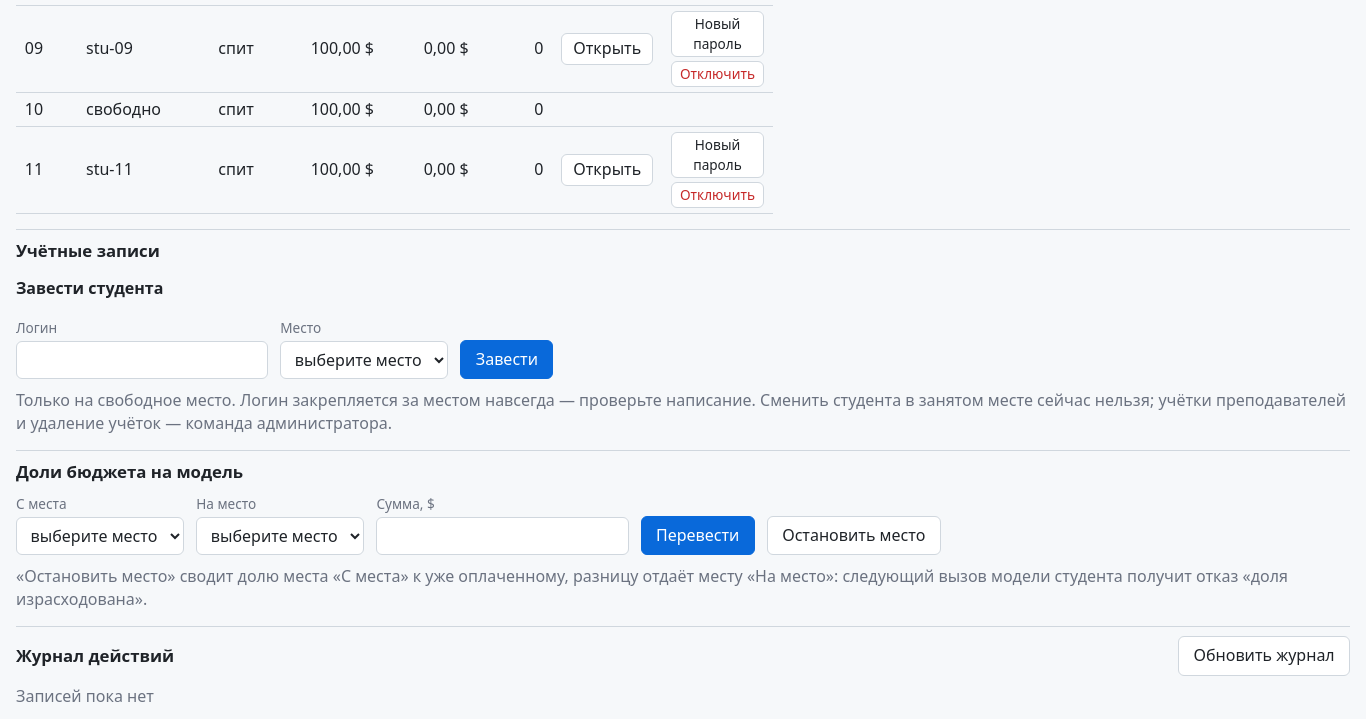
Test: share_refusal_400_and_503_text_as_is
The width and height of the screenshot is (1366, 719).
(page scrolled)
Select "03 — stu-03" in the dropdown labelled "С места": (100, 536) [16,517,184,555]
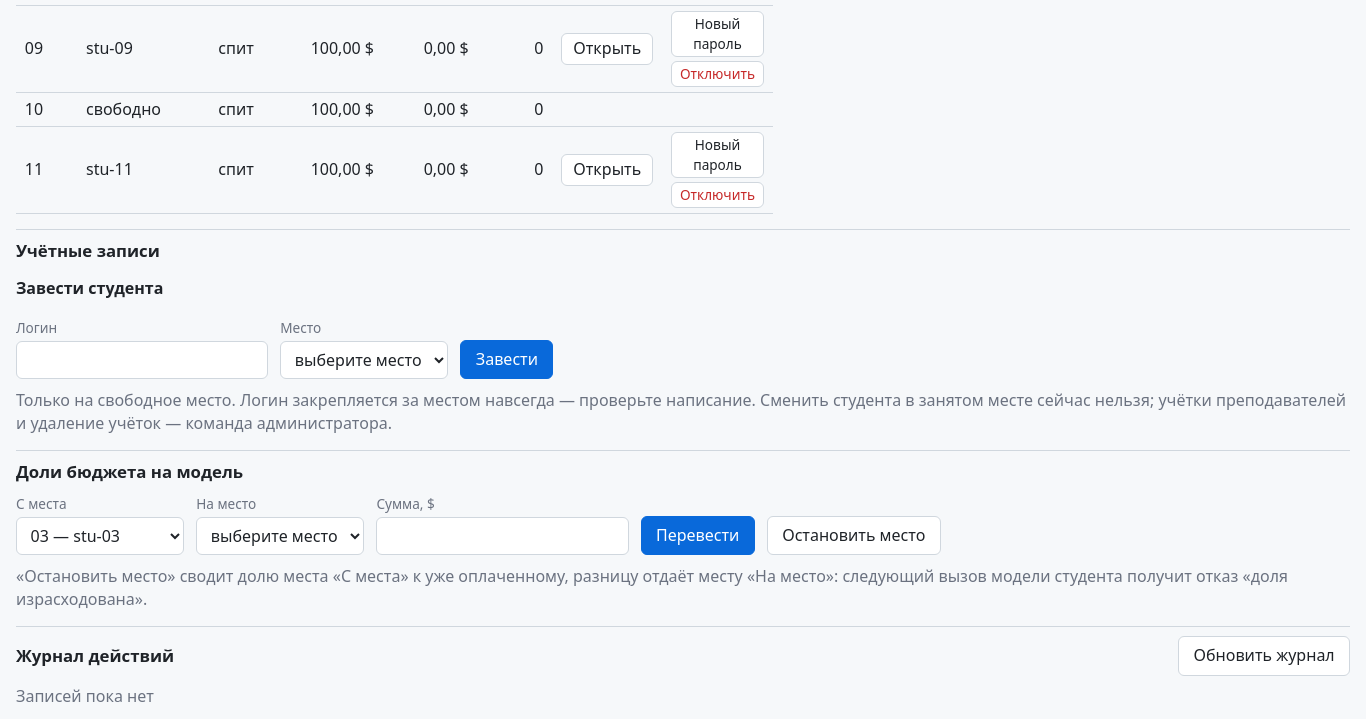
Select "05 — stu-05" in the dropdown labelled "На место": (280, 536) [196,517,364,555]
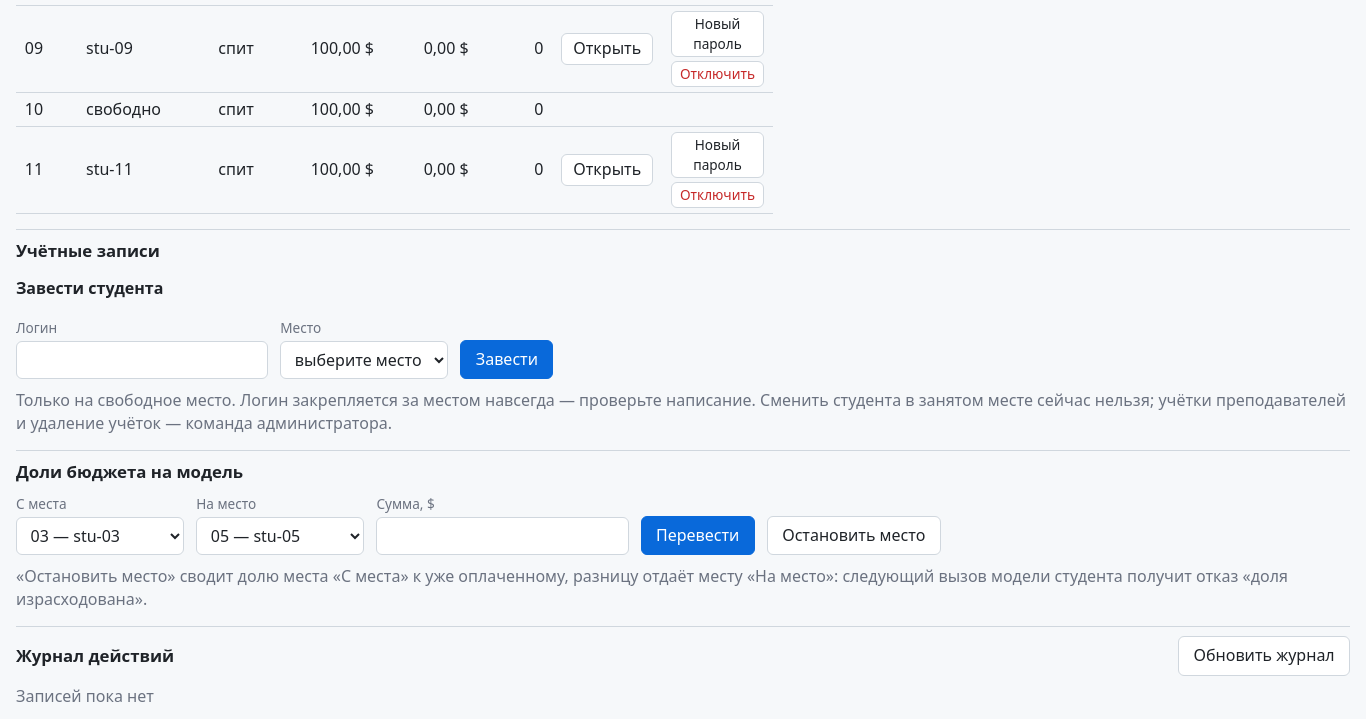
In the field labelled "Сумма, $": (502, 536) [376,517,629,555], type "1"
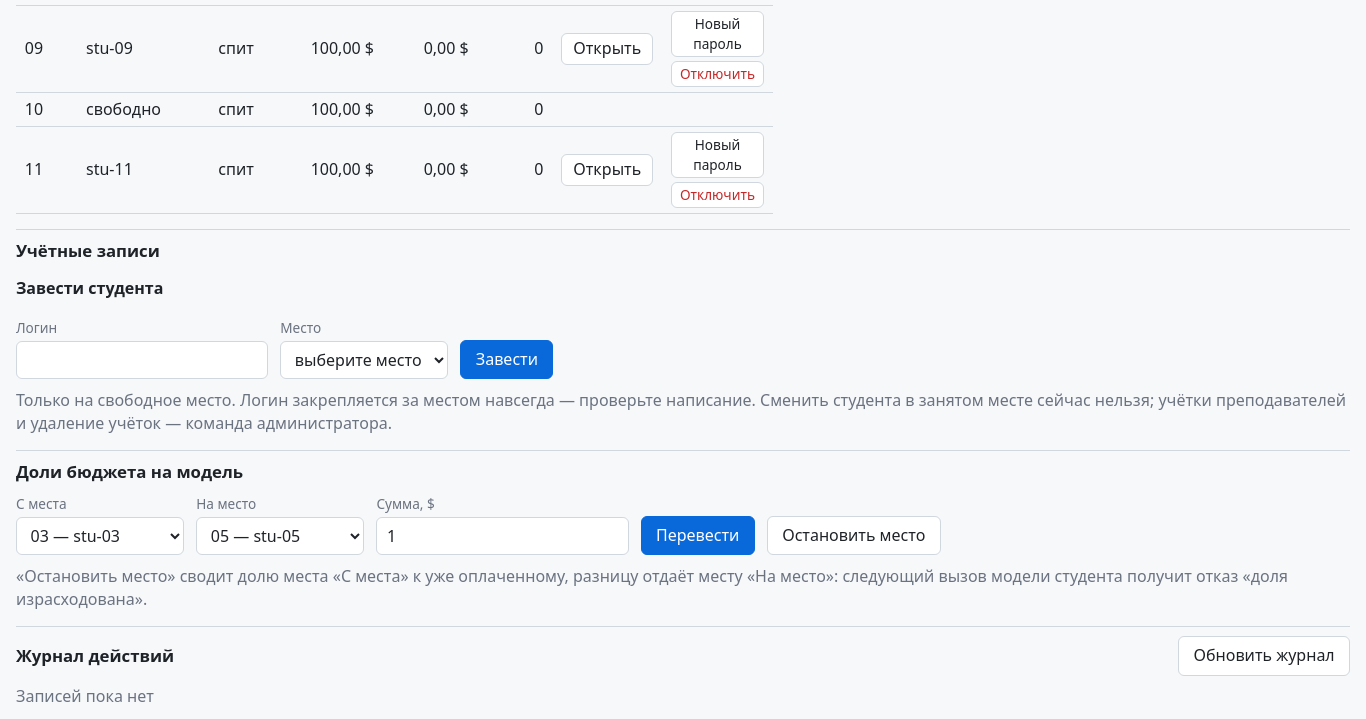
Click the button "Перевести": (698, 536) [641,516,755,555]
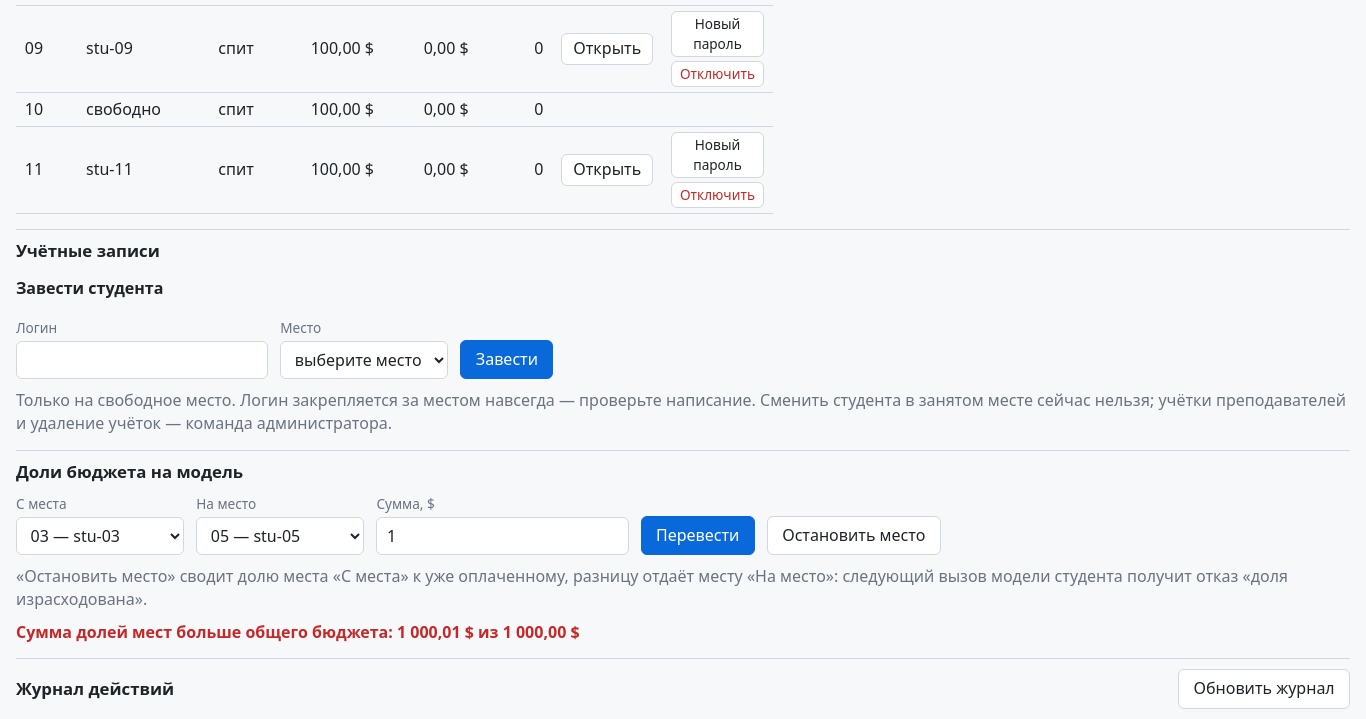
Expected: the text "Сумма долей мест больше общего бюджета: 1 000,01 $ из 1 000,00 $" is shown, [16,621,580,643]
Click the button "Перевести": (698, 536) [641,516,755,555]
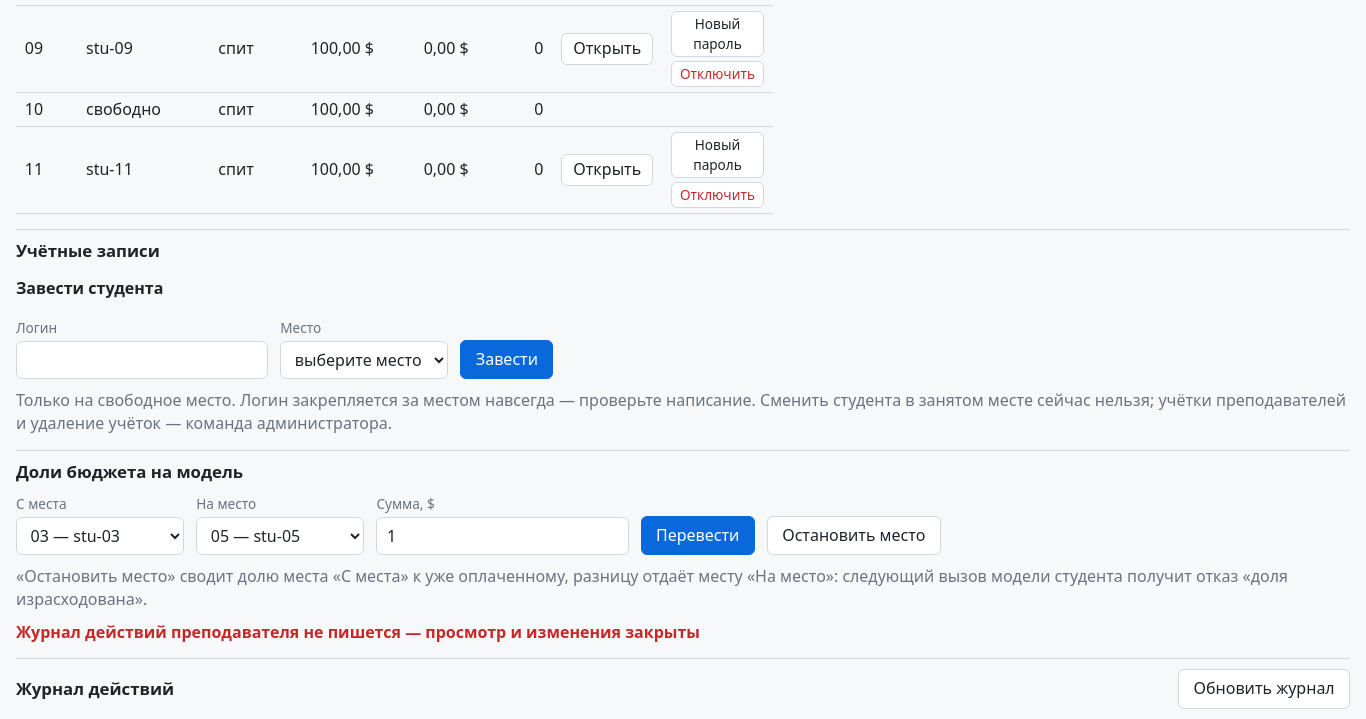
Expected: the text "Журнал действий преподавателя не пишется — просмотр и изменения закрыты" is shown, [16,621,700,643]
